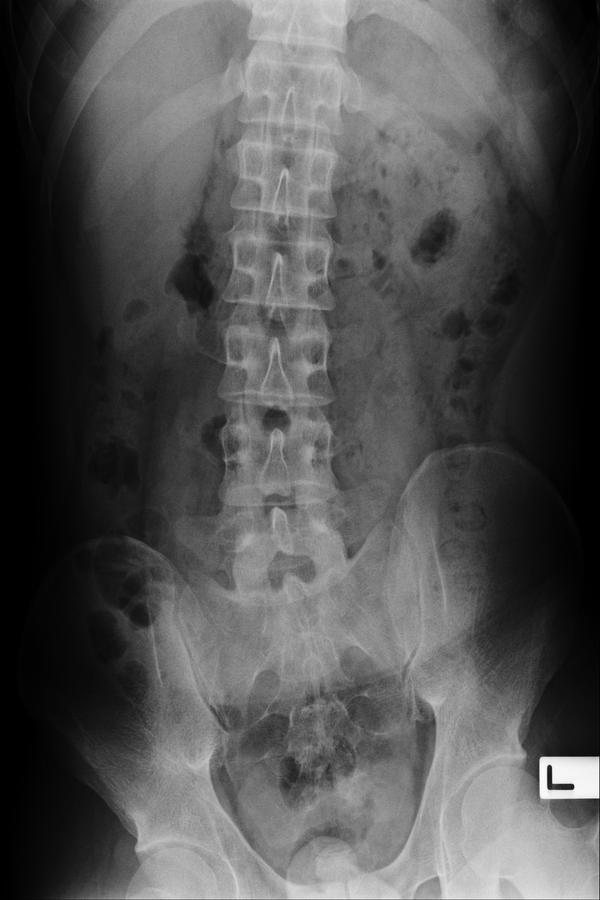lumbar scoliosis: (209, 8, 365, 621)
